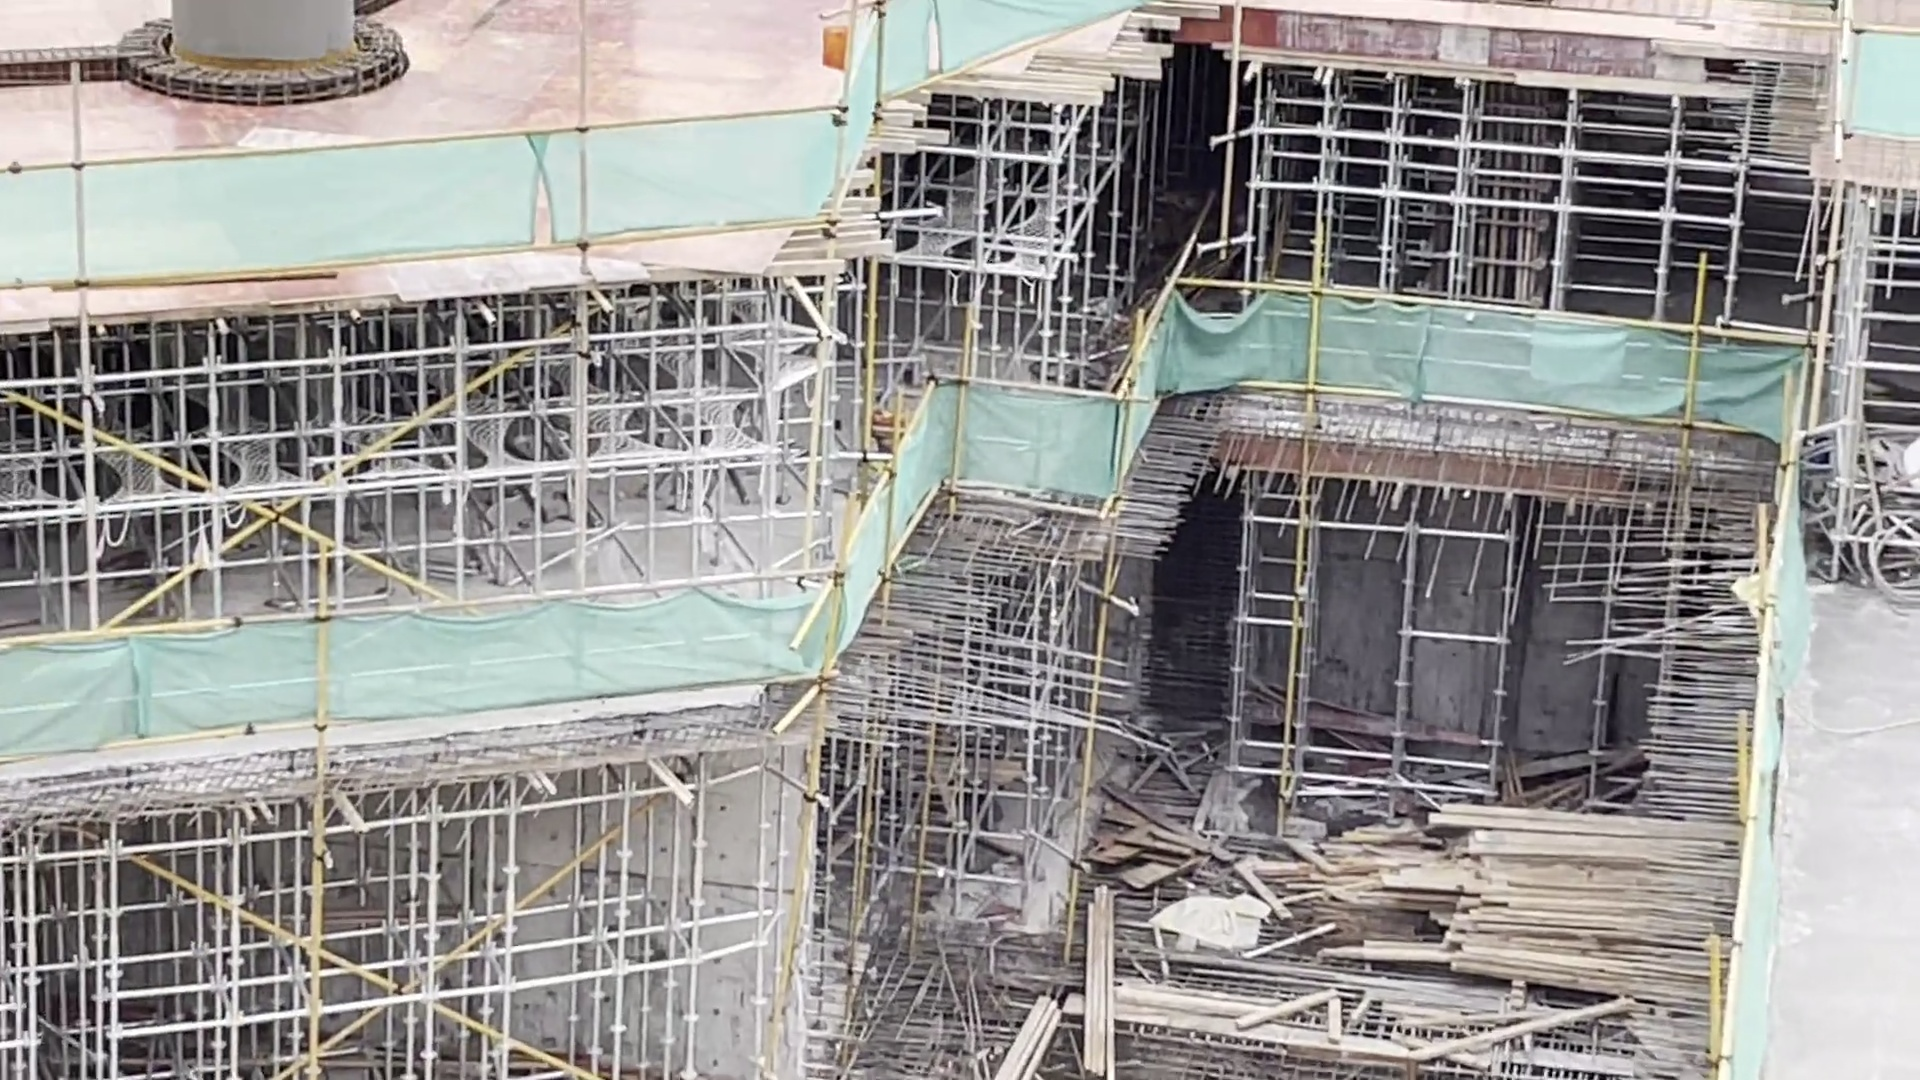wood: (1424, 796, 1742, 996)
